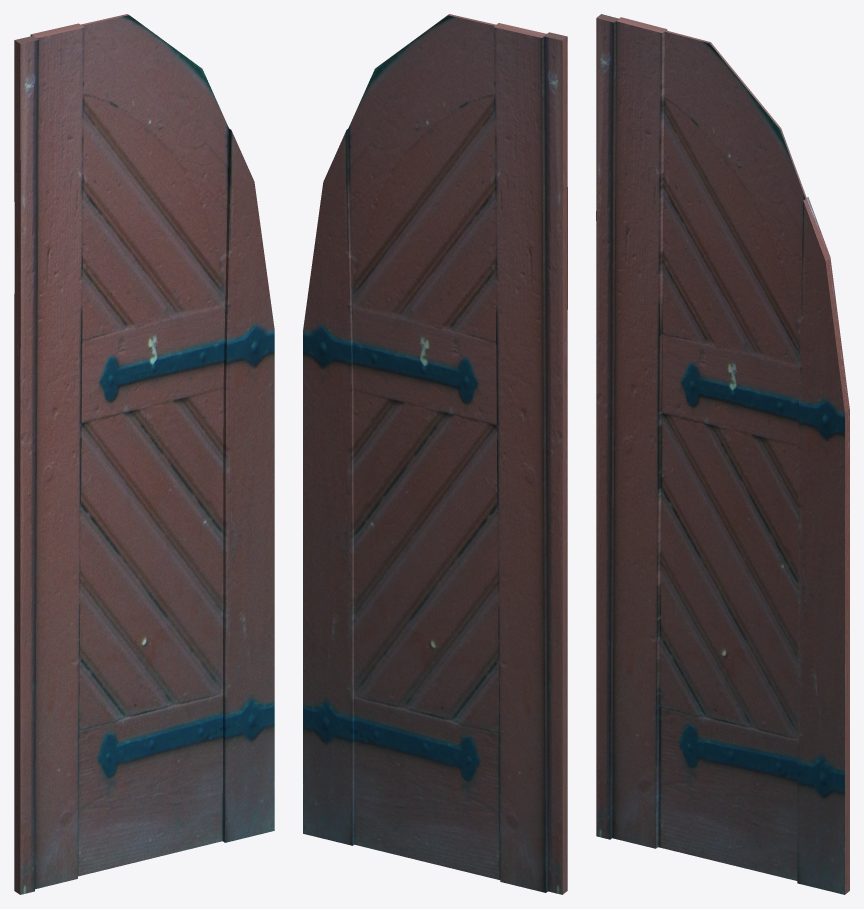
Rendered from gate-small-part-2.fbx.
3 views of the same model, side by side, from view 1: azimuth 30°, elevation 25°; view 2: azimuth 150°, elevation 25°; view 3: azimuth 330°, elevation 25° (orthographic). The views are drawn at different scales.
Parts seen in each view (by area): view 1: gate-small-part-2; view 2: gate-small-part-2; view 3: gate-small-part-2.
Part boxes in pixels (x1,y1,x2,y2): gate-small-part-2: (14, 14, 274, 894); gate-small-part-2: (303, 14, 567, 894); gate-small-part-2: (596, 14, 849, 894).
Bounding box in the file's own units: 81.62 × 258 × 4.36.
